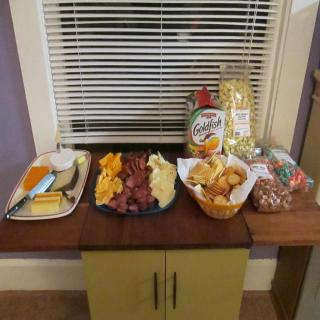Cheese: (146, 151, 178, 209), (52, 165, 80, 193), (22, 166, 50, 191), (31, 191, 64, 211)
